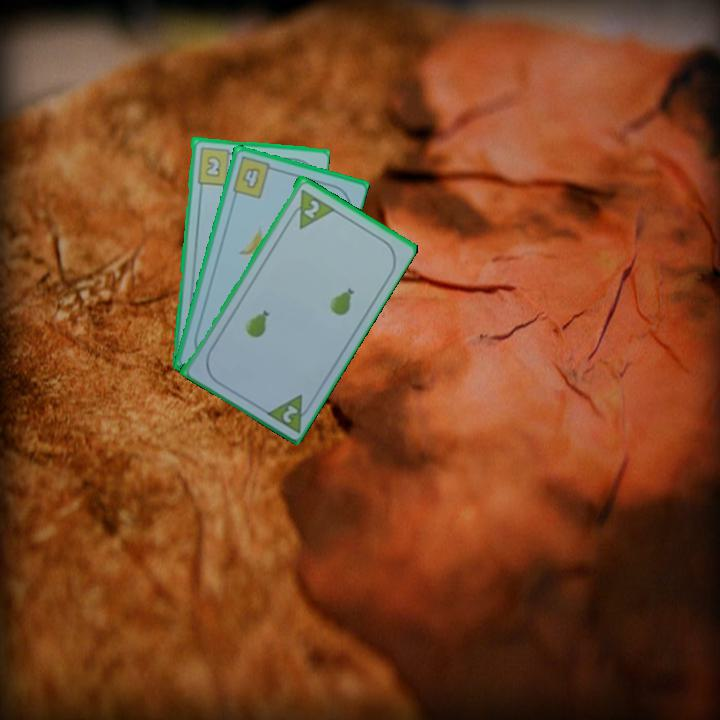2b: (193, 144, 238, 188)
2p: (284, 185, 336, 231), (279, 401, 301, 426)
4b: (229, 153, 279, 201)
